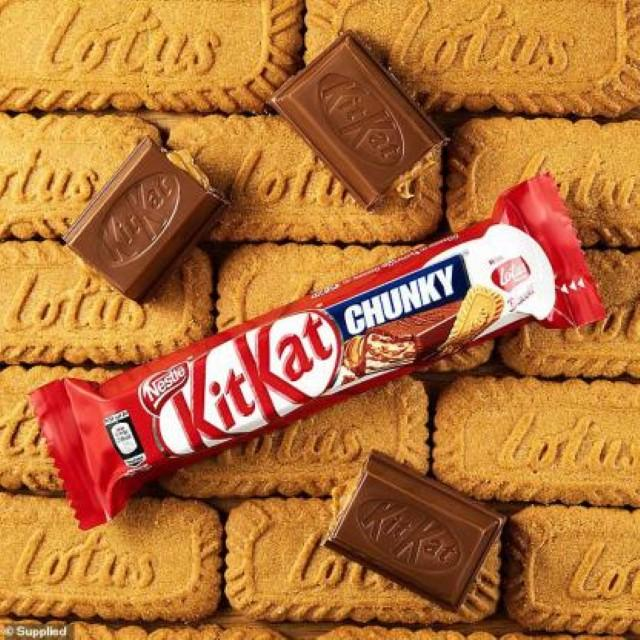kitkat_chocolate: (70, 168, 552, 527)
